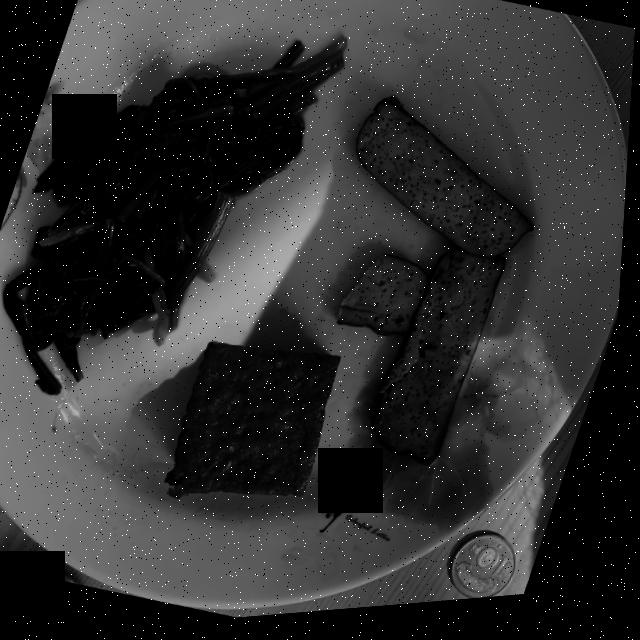coin: (454, 539, 523, 607)
egg tofu: (170, 344, 345, 501)
firm tofu: (342, 106, 535, 471)
mustard greens: (6, 43, 347, 394)
